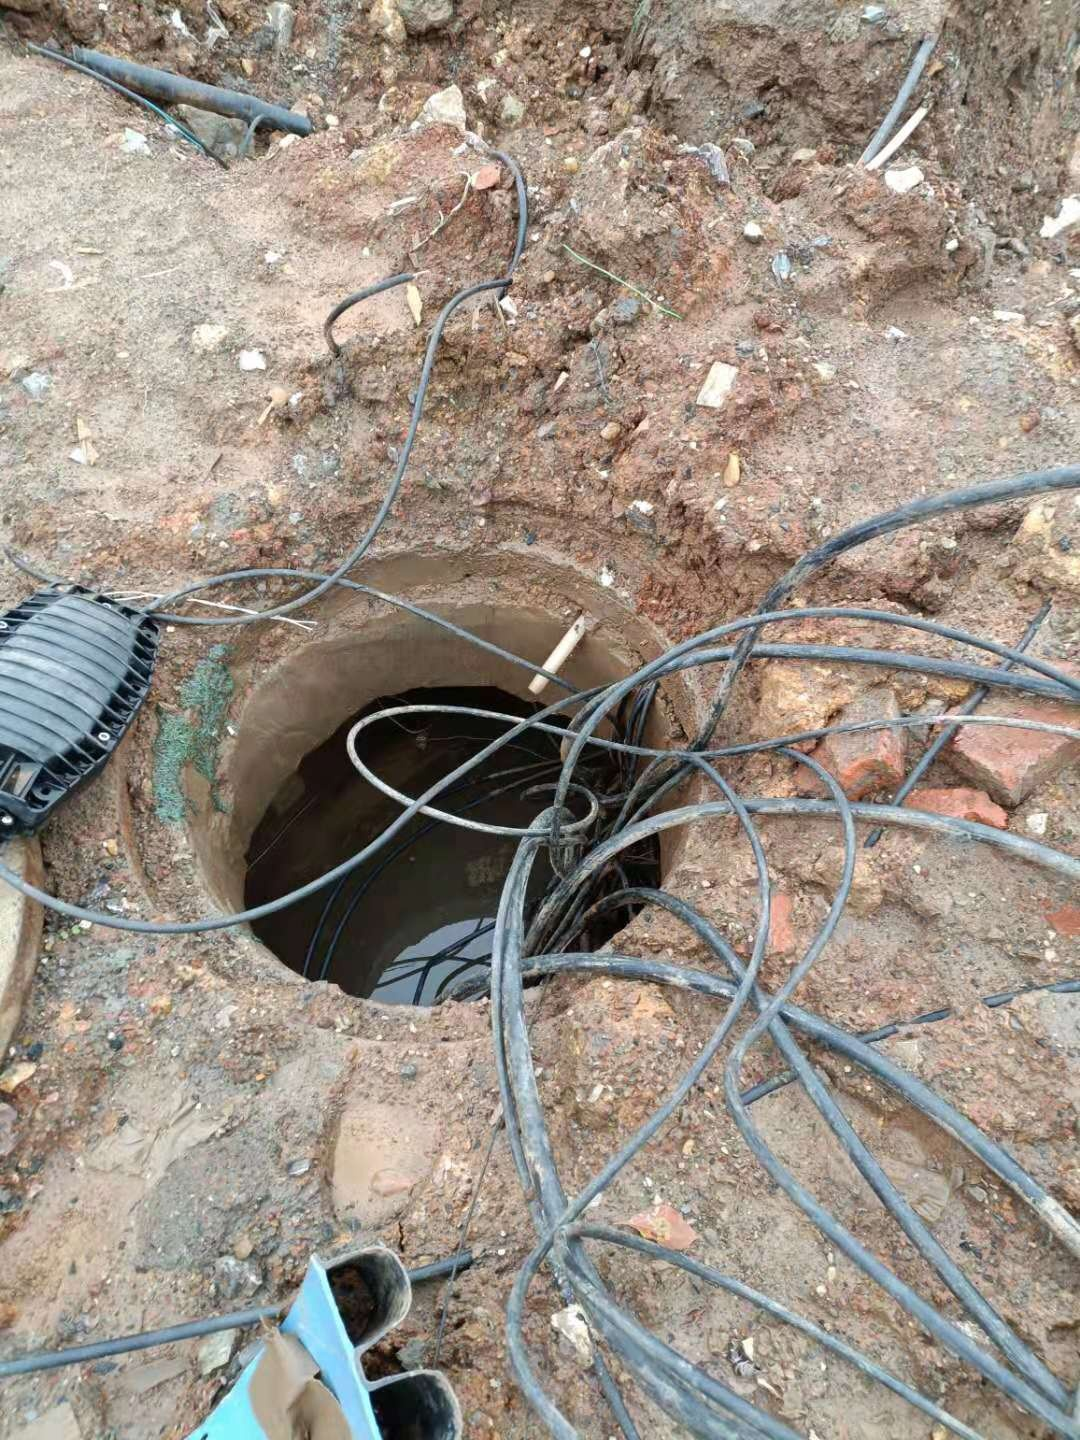lose: (104, 518, 739, 1061)
